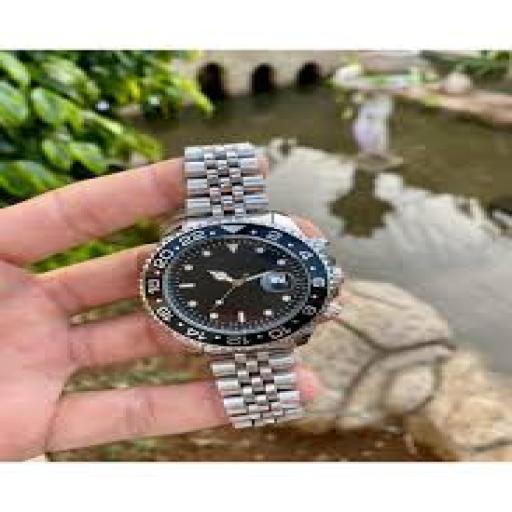KolSaati: (122, 112, 369, 434)
